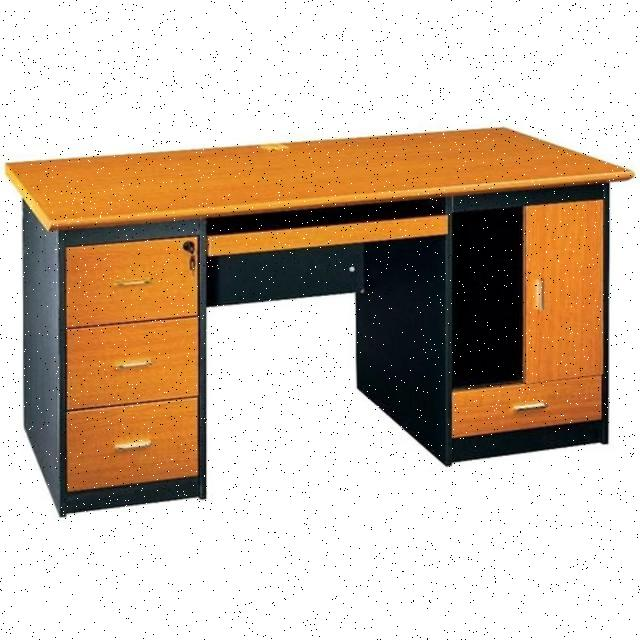mobile-phone: (0, 125, 631, 519)
